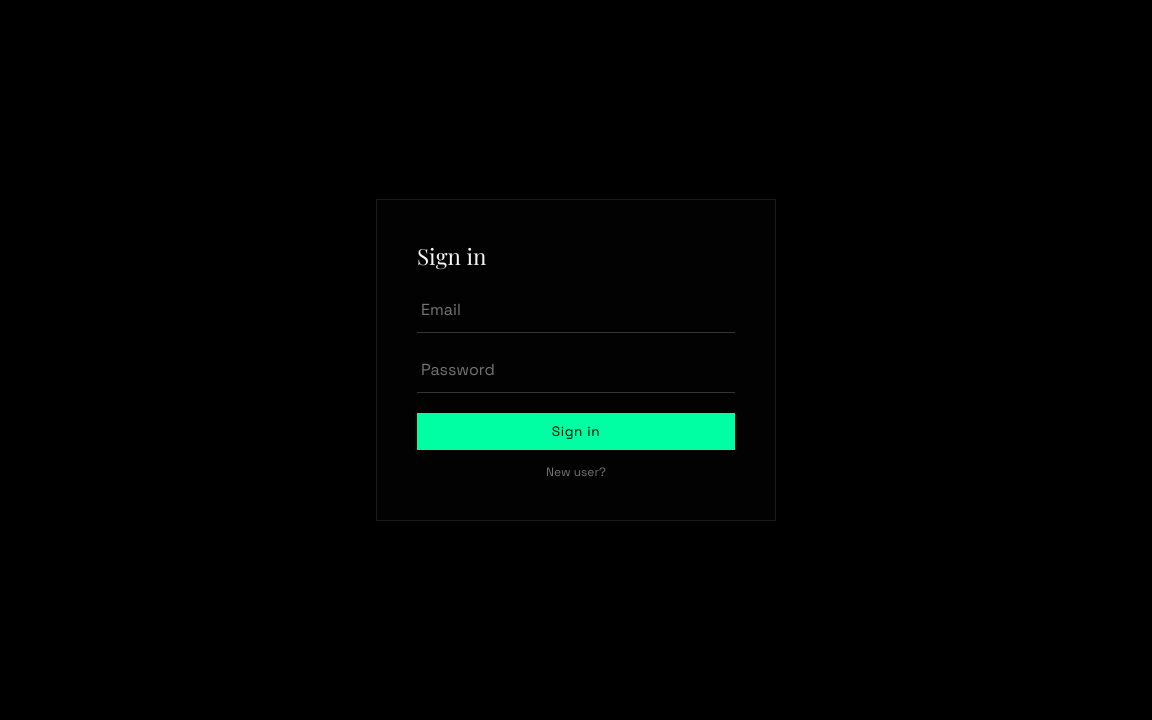
Test case: AuthModal › switches between login and register
The width and height of the screenshot is (1152, 720).
Expected: the heading "Sign in" is shown, [417,241,486,271]
Expected: the button "Sign in" is shown, [417,413,735,450]
Click the button "New user?". click: (576, 472)
box: [417,464,735,480]
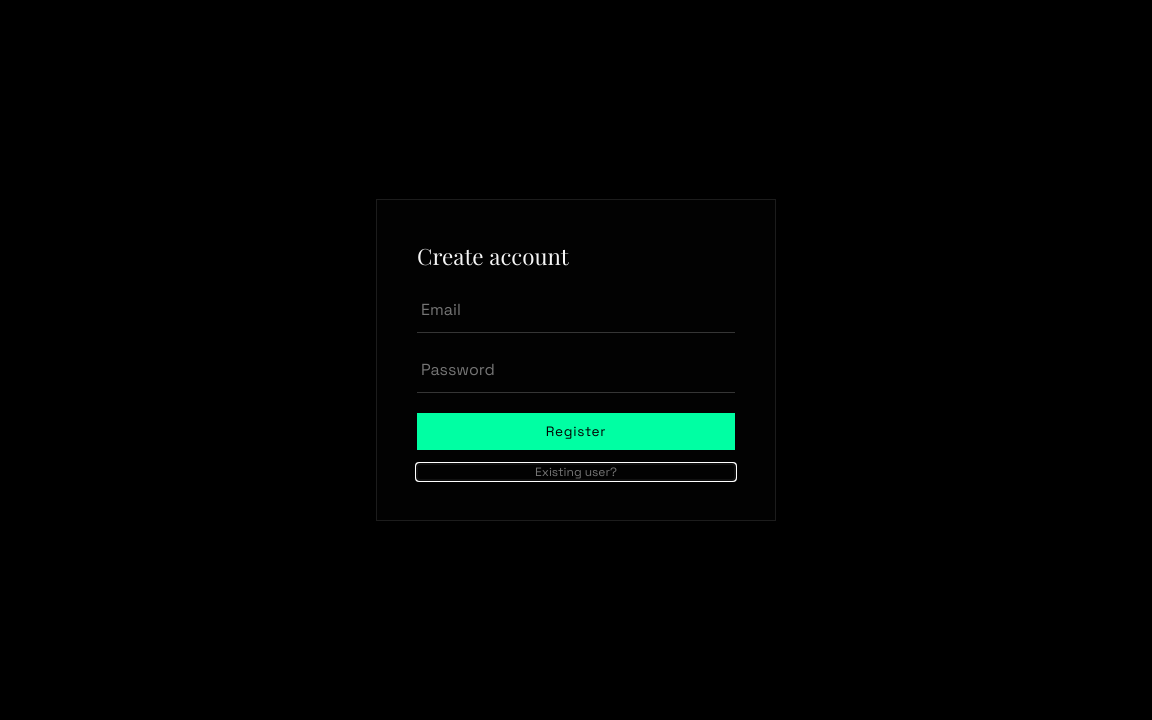
Now the heading "Create account" is shown, box [417,241,569,271]
Now the button "Register" is shown, box [417,413,735,450]
